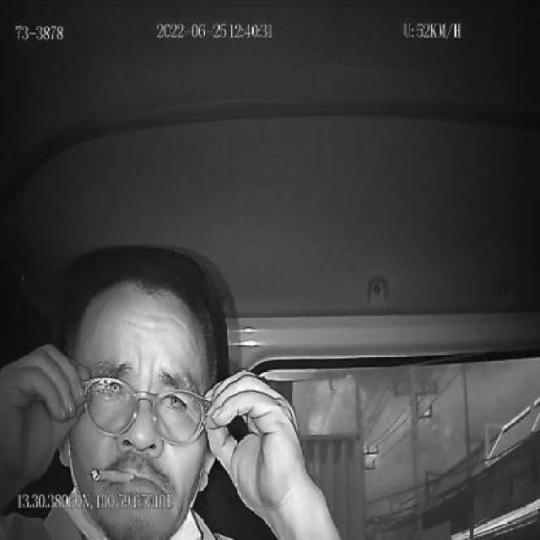smoking: (88, 465, 134, 485)
